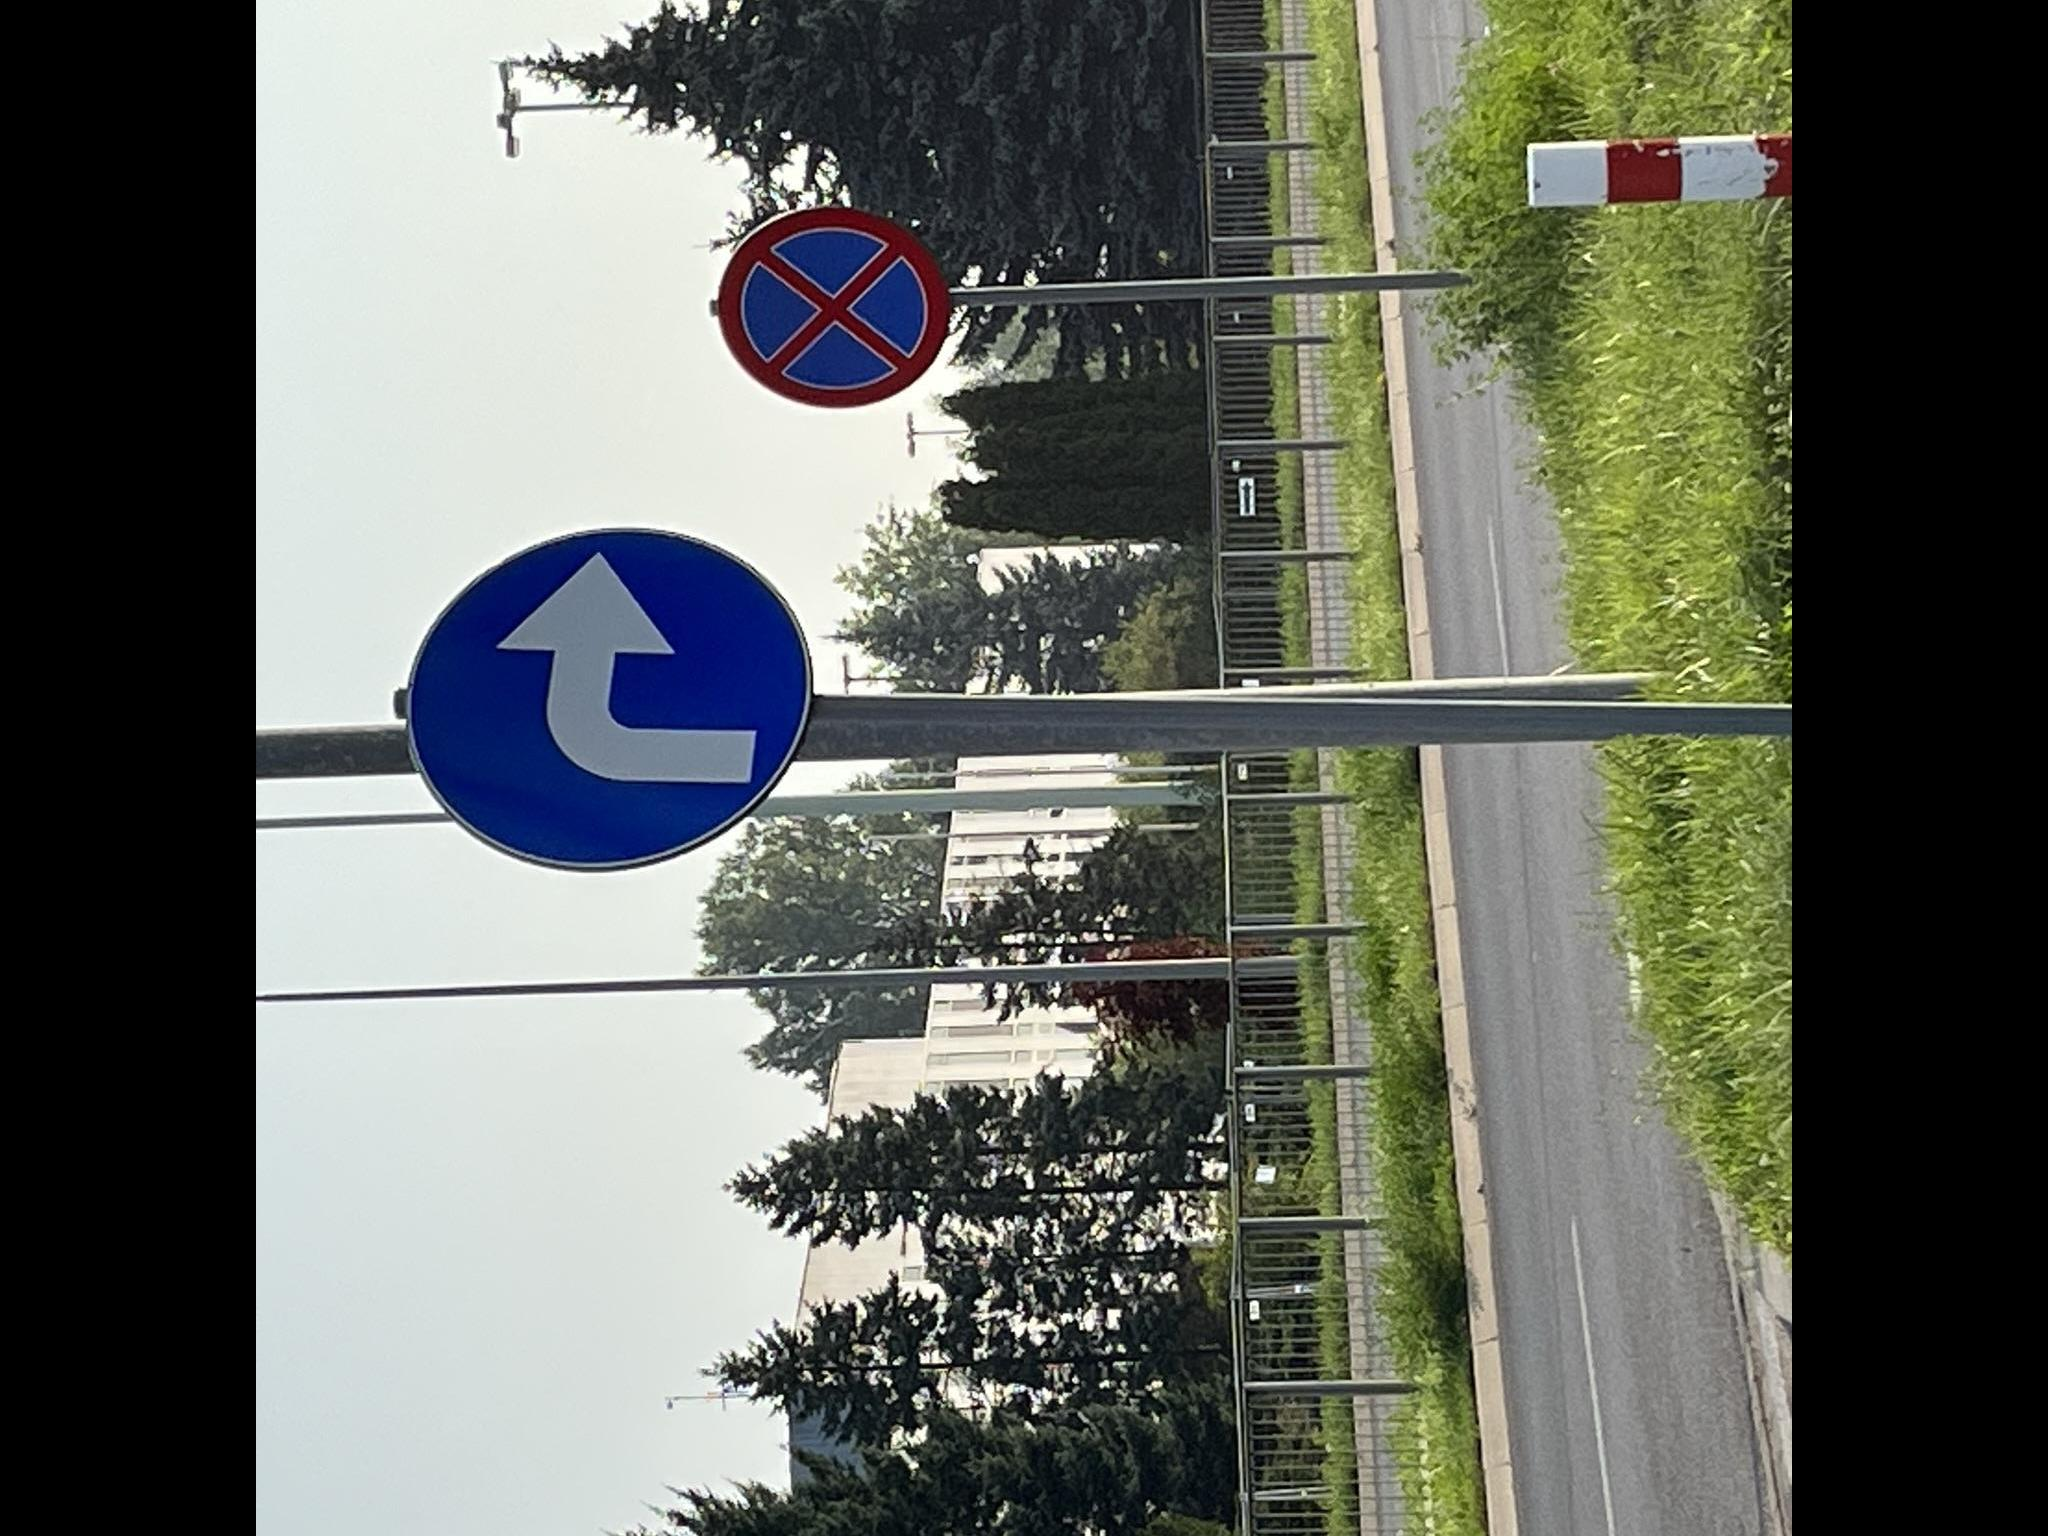mandatory: (402, 524, 818, 876)
prohibitory: (710, 203, 951, 411)
